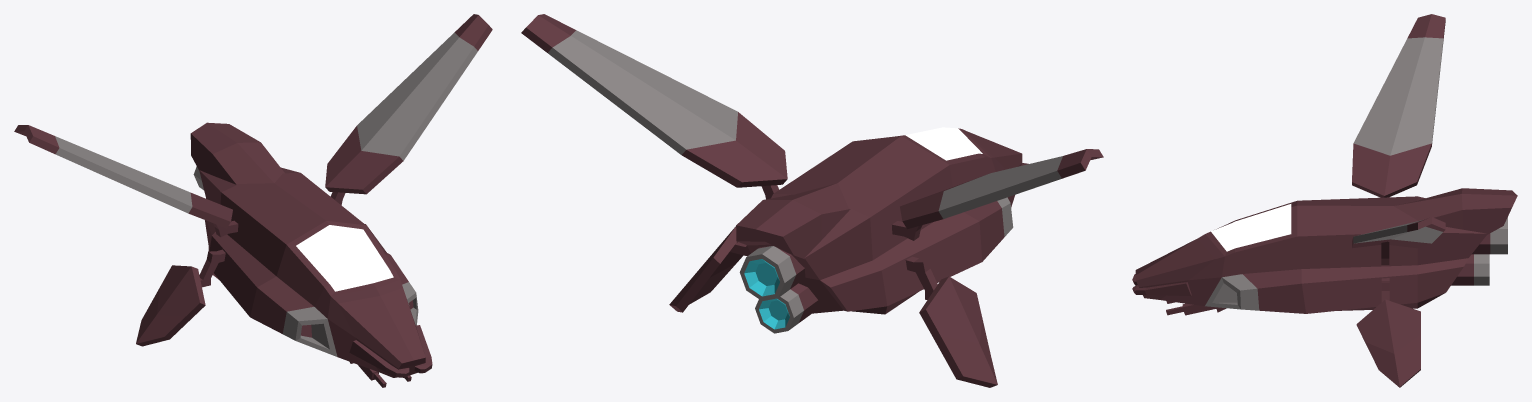
File: scifi-scifi-spaceship-four-wing.glb
3 renders of one model, left to right at view 1: azimuth 30°, elevation 25°; view 2: azimuth 150°, elevation 25°; view 3: azimuth 270°, elevation 25°, orthographic. The views are drawn at different scales.
Visible parts, largest first — view 1: scifi-spaceship-four-wing; view 2: scifi-spaceship-four-wing; view 3: scifi-spaceship-four-wing.
Boxes of the visible parts, left/top/right/bottom form: scifi-spaceship-four-wing: left=14, top=14, right=492, bottom=387; scifi-spaceship-four-wing: left=521, top=14, right=1103, bottom=387; scifi-spaceship-four-wing: left=1132, top=14, right=1517, bottom=387.
Bounding box in the file's own units: 9.87 × 4.73 × 7.7.
